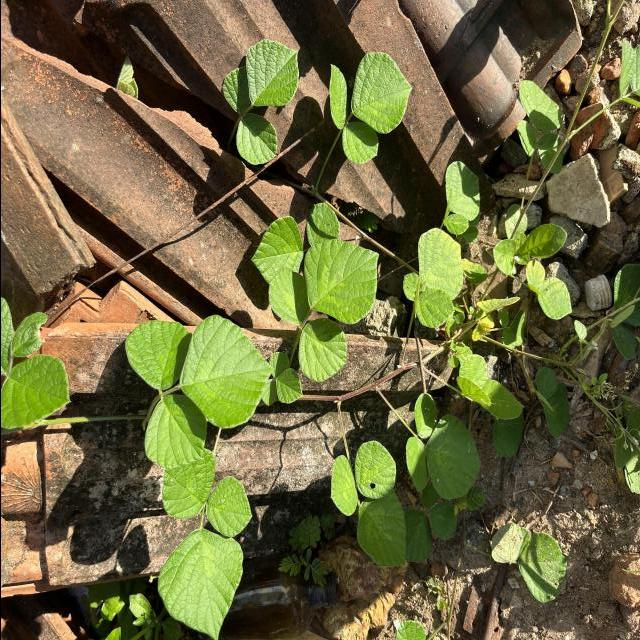Pseudarthria viscida: (120, 314, 278, 468), (156, 449, 253, 640), (266, 238, 380, 384), (220, 39, 300, 167), (328, 439, 406, 568), (326, 51, 412, 165), (404, 392, 482, 502), (401, 228, 463, 328)
